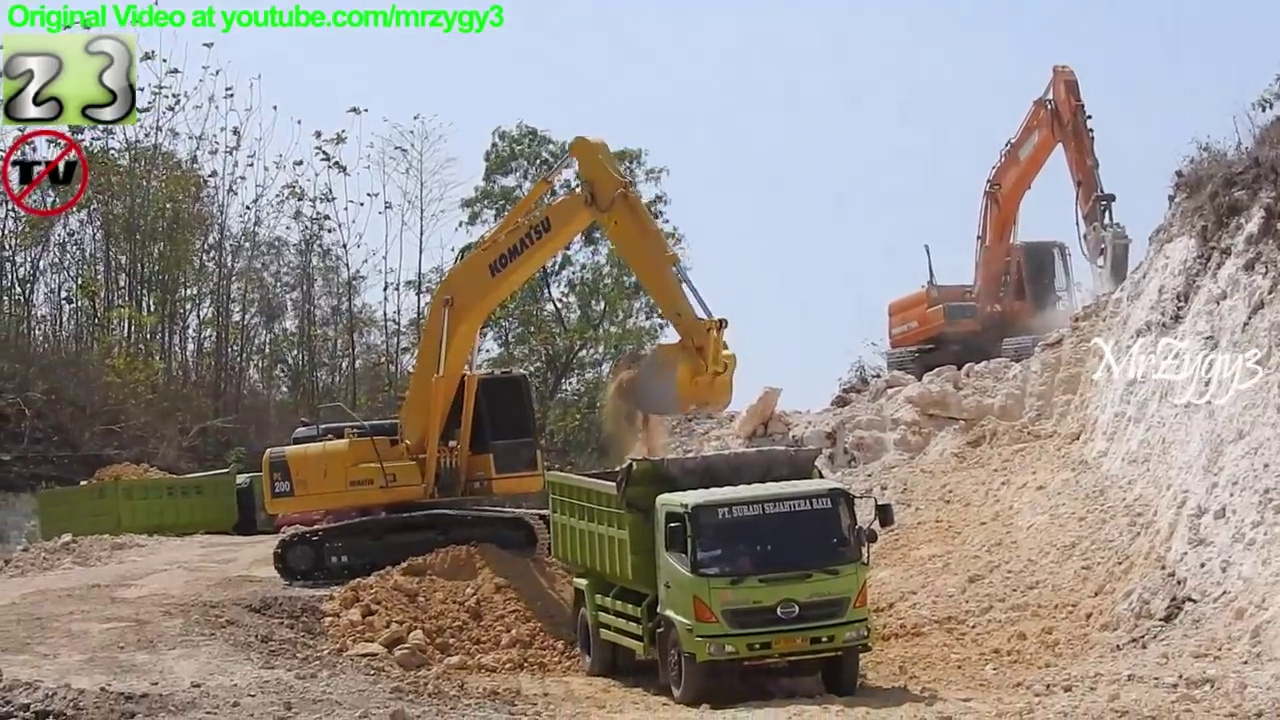excavator: (257, 134, 743, 595)
excavator breaker: (879, 59, 1134, 385)
truck: (541, 445, 903, 712), (33, 465, 312, 572)
